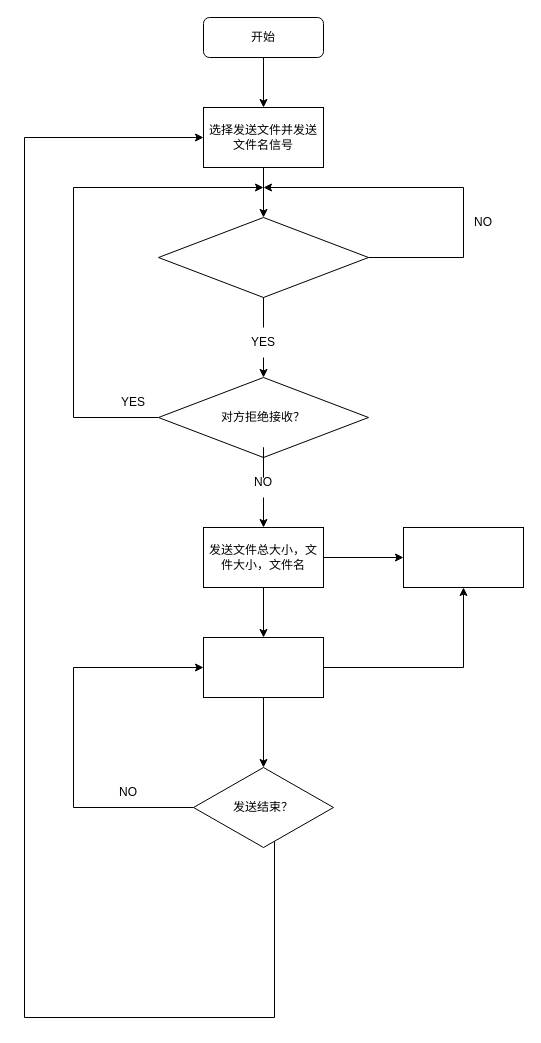
This 541x1043 diagram has some shape labels left out. Here are the shapes that lost their labels. From the top down, the centre of each, then its label:
At point (263, 257): "有新的连接请求？".
At point (463, 557): "触发更新发送进度条".
At point (263, 667): "发送文件本身".
